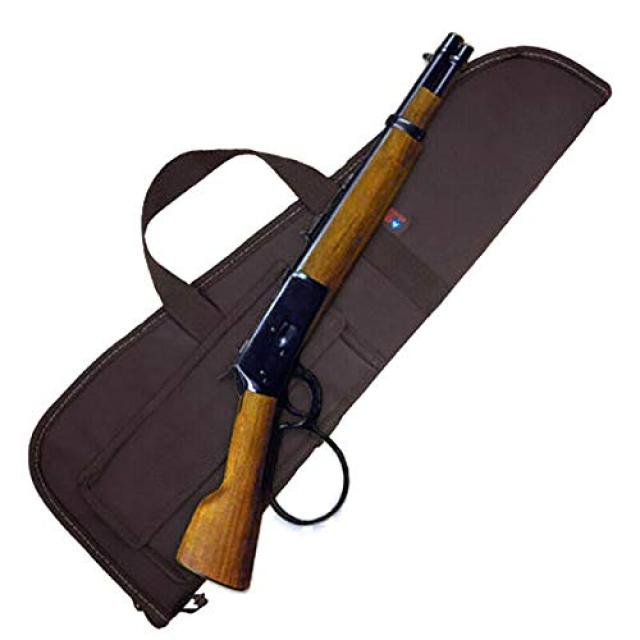ShotGun: (177, 32, 470, 594)
